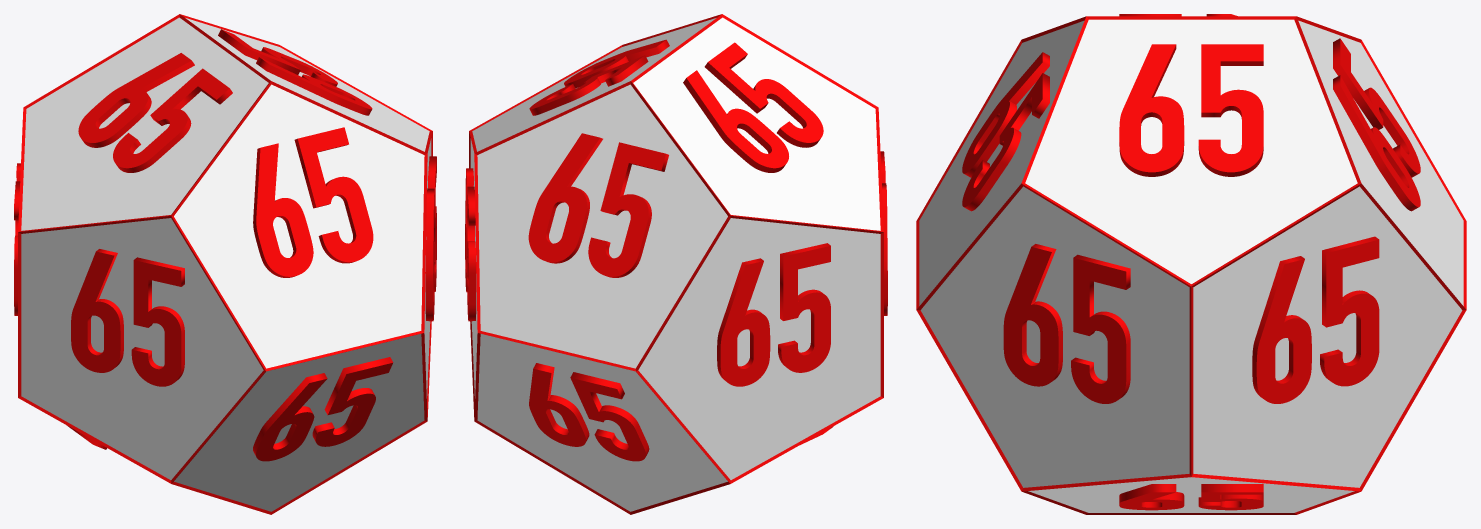
The model's file is dodecahedron_sign-65.glb.
3 renders of one model, left to right at view 1: azimuth 30°, elevation 25°; view 2: azimuth 150°, elevation 25°; view 3: azimuth 270°, elevation 25°, orthographic. The views are drawn at different scales.
Parts seen in each view (by area): view 1: Dodecahedron_Solid, Text20_5, Dodecahedron_Wire, Text20_11, Text20_7, Text20_10, Text20_2, Text20_6, Text20_8; view 2: Dodecahedron_Solid, Text20_0, Dodecahedron_Wire, Text20_8, Text20_7, Text20_3, Text20_2, Text20_1, Text20_11; view 3: Dodecahedron_Solid, Dodecahedron_Wire, Text20_1, Text20_6, Text20_2, Text20_0, Text20_5, Text20_4.
Boxes of the visible parts, x1,y1,x2,y2 form: Dodecahedron_Solid: (21,17,431,511); Text20_5: (253,127,373,277); Dodecahedron_Wire: (18,14,432,514); Text20_11: (71,249,184,386); Text20_7: (78,53,232,172); Text20_10: (253,357,393,461); Text20_2: (218,29,372,115); Text20_6: (425,156,436,321); Text20_8: (14,163,20,315); Dodecahedron_Solid: (470,17,880,511); Text20_0: (528,133,668,277); Dodecahedron_Wire: (469,14,883,514); Text20_8: (717,243,830,386); Text20_7: (683,42,823,172); Text20_3: (529,363,649,461); Text20_2: (529,39,669,115); Text20_1: (465,168,476,321); Text20_11: (880,151,887,315); Dodecahedron_Solid: (919,19,1463,512); Dodecahedron_Wire: (916,16,1466,514); Text20_1: (1252,236,1379,403); Text20_6: (1003,244,1130,403); Text20_2: (1119,44,1263,176); Text20_0: (1333,38,1420,211); Text20_5: (962,52,1049,211); Text20_4: (1119,484,1263,510).
Bounding box in the file's own units: 3.26 × 3.26 × 3.26.
